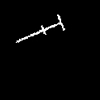double_crochet: (16, 15, 64, 42)
